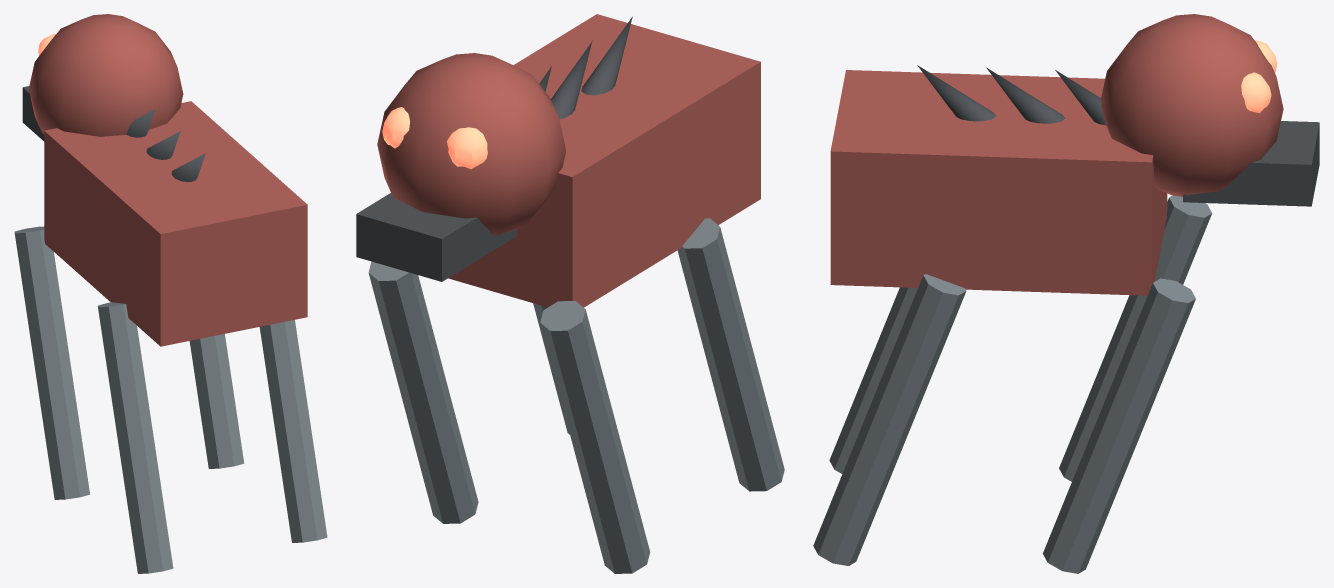
File: mob_rusher.glb
The picture shows the model from 3 angles, left to right: view 1: azimuth 30°, elevation 25°; view 2: azimuth 150°, elevation 25°; view 3: azimuth 270°, elevation 25°; orthographic projection. The views are drawn at different scales.
Visible parts, largest first — view 1: Torso, Head, Leg01, Leg00, Leg10, Leg11, Jaw, Spine1, Spine0, Spine2; view 2: Torso, Head, Leg01, Leg00, Leg11, Jaw, Spine0, EyeL, Spine1, EyeR; view 3: Torso, Head, Leg11, Leg10, Leg01, Jaw, Leg00, Spine0, Spine1, EyeR, Spine2.
Part boxes in pixels (x1,y1,x2,y2): Torso: [44, 101, 307, 346]; Head: [29, 14, 183, 136]; Leg01: [14, 226, 89, 499]; Leg00: [97, 302, 173, 573]; Leg10: [259, 320, 327, 542]; Leg11: [189, 334, 244, 468]; Jaw: [22, 86, 44, 141]; Spine1: [146, 131, 180, 159]; Spine0: [171, 153, 205, 181]; Spine2: [126, 109, 155, 137]; Torso: [448, 14, 760, 307]; Head: [377, 53, 565, 235]; Leg01: [540, 301, 650, 573]; Leg00: [677, 218, 784, 491]; Leg11: [368, 261, 478, 523]; Jaw: [356, 193, 517, 281]; Spine0: [581, 16, 632, 95]; EyeL: [447, 127, 487, 169]; Spine1: [551, 41, 592, 118]; EyeR: [382, 107, 410, 148]; Torso: [830, 70, 1167, 295]; Head: [1101, 14, 1283, 196]; Leg11: [1043, 278, 1195, 573]; Leg10: [813, 274, 966, 565]; Leg01: [1059, 195, 1212, 481]; Jaw: [1183, 121, 1319, 206]; Leg00: [829, 287, 917, 473]; Spine0: [917, 65, 996, 121]; Spine1: [986, 67, 1065, 123]; EyeR: [1241, 72, 1271, 113]; Spine2: [1055, 70, 1105, 125].
Bounding box in the file's own units: 0.5974 × 1.22 × 1.1.
